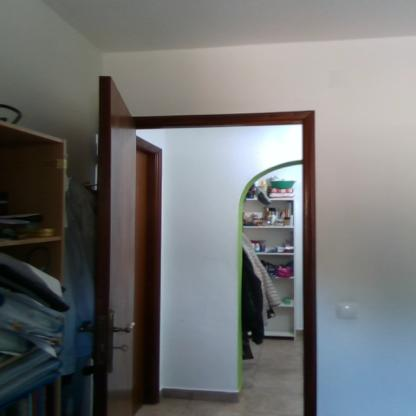open: (123, 86, 330, 414)
